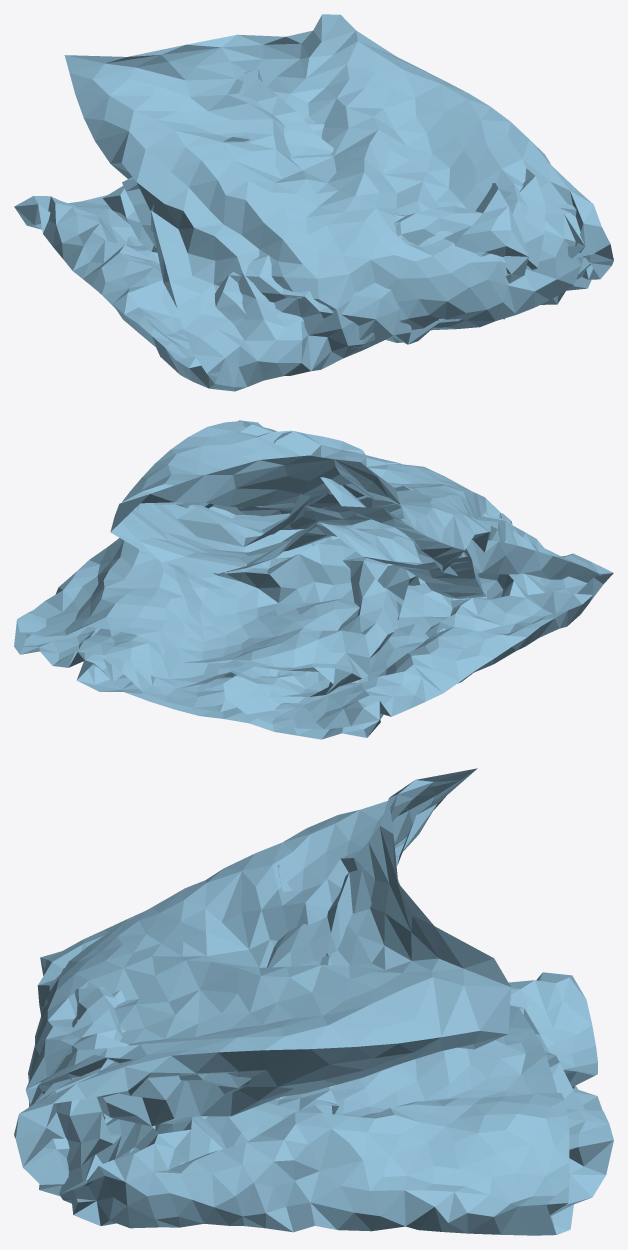
Rendered from frame_17.glb.
The picture shows the model from 3 angles, top to bottom: view 1: azimuth 30°, elevation 25°; view 2: azimuth 150°, elevation 25°; view 3: azimuth 270°, elevation 25°; orthographic projection. The views are drawn at different scales.
Visible parts, largest first — view 1: frame_17.obj; view 2: frame_17.obj; view 3: frame_17.obj.
Boxes of the visible parts, box(x1,y1,x2,y2) form: frame_17.obj: box(14, 14, 613, 391); frame_17.obj: box(14, 420, 613, 739); frame_17.obj: box(14, 768, 613, 1235).
Bounding box in the file's own units: 0.9842 × 0.5124 × 0.9879.
